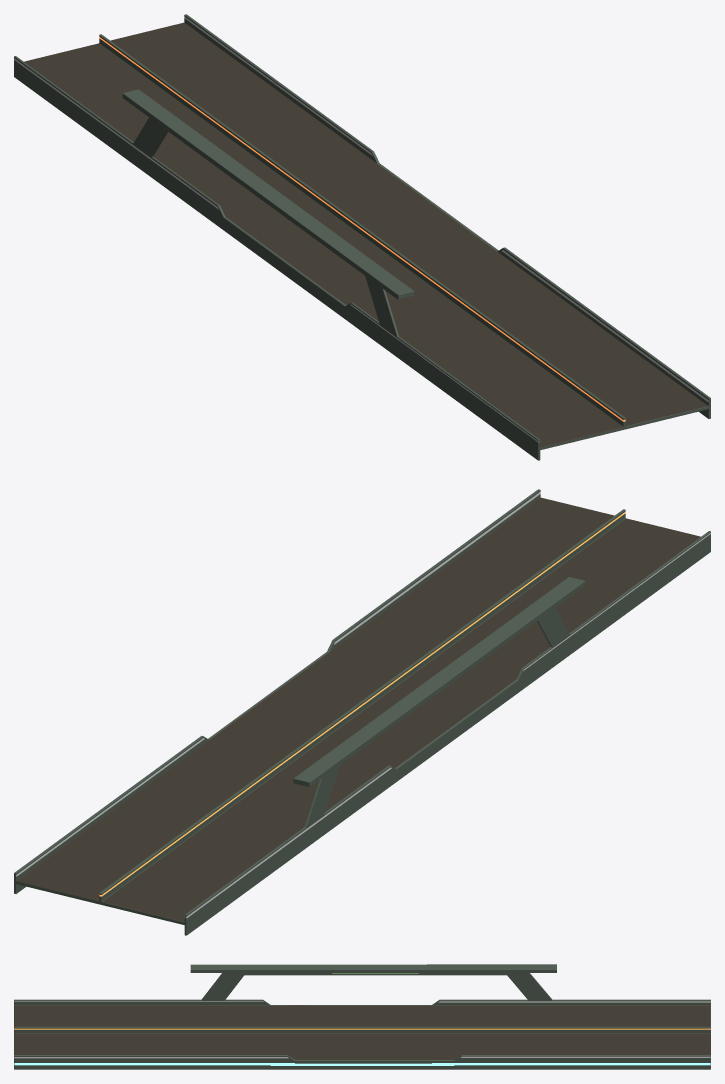
The model's file is SM_Bridge 1.fbx.
3 views of the same model, one above another, from view 1: azimuth 30°, elevation 25°; view 2: azimuth 150°, elevation 25°; view 3: azimuth 270°, elevation 25° (orthographic). The views are drawn at different scales.
Visible parts, largest first — view 1: SM_Bridge; view 2: SM_Bridge; view 3: SM_Bridge.
Boxes of the visible parts, bbox=[...] form: SM_Bridge: bbox=[14, 14, 710, 460]; SM_Bridge: bbox=[14, 489, 710, 935]; SM_Bridge: bbox=[14, 964, 710, 1069].
Size of the model in its own units: 728 by 272 by 3672.
